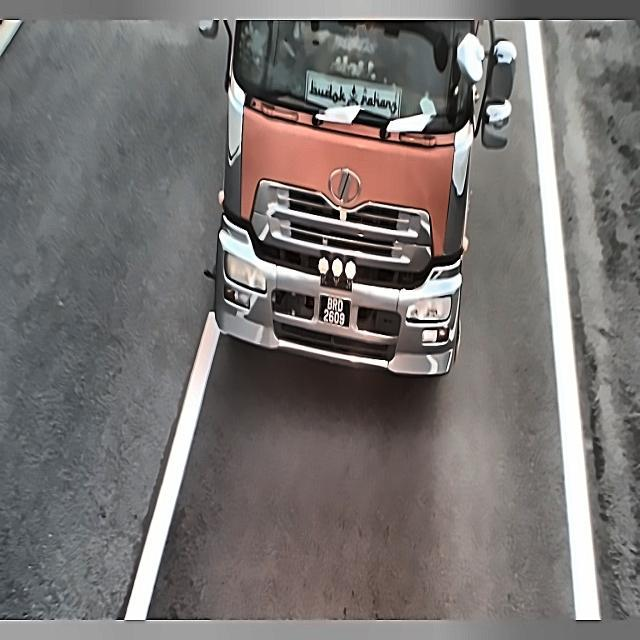car: (316, 288, 353, 334)
